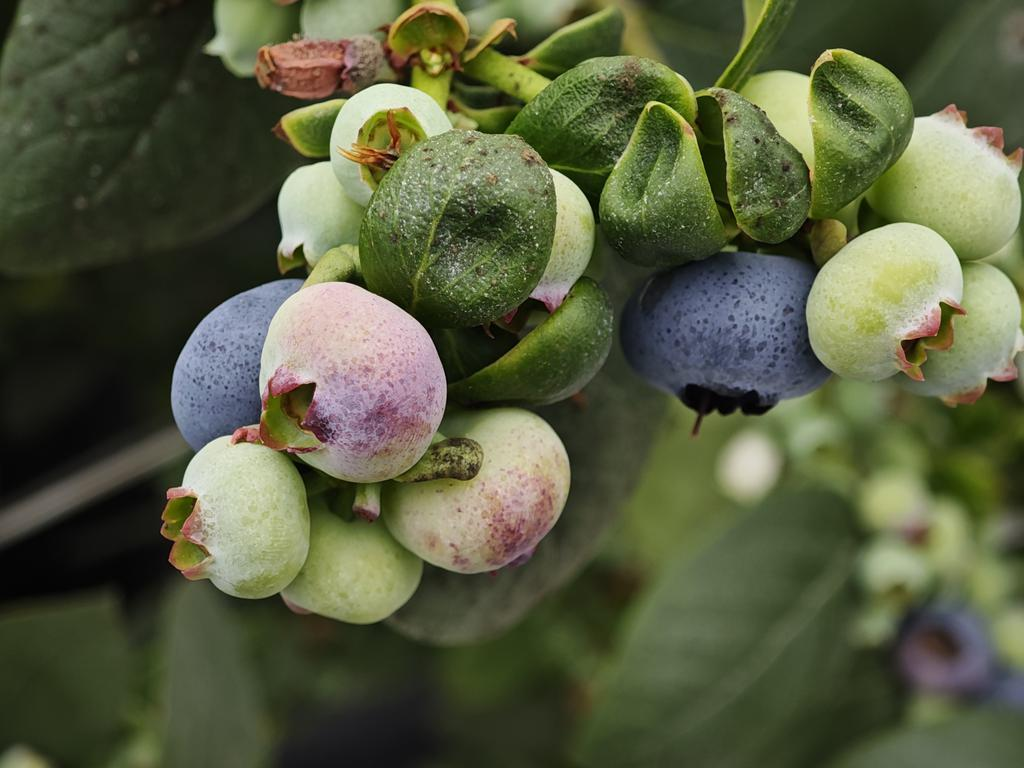Semi-RipeBlueBerry: (263, 283, 447, 484)
UnripeBlueBerry: (804, 217, 961, 384)
